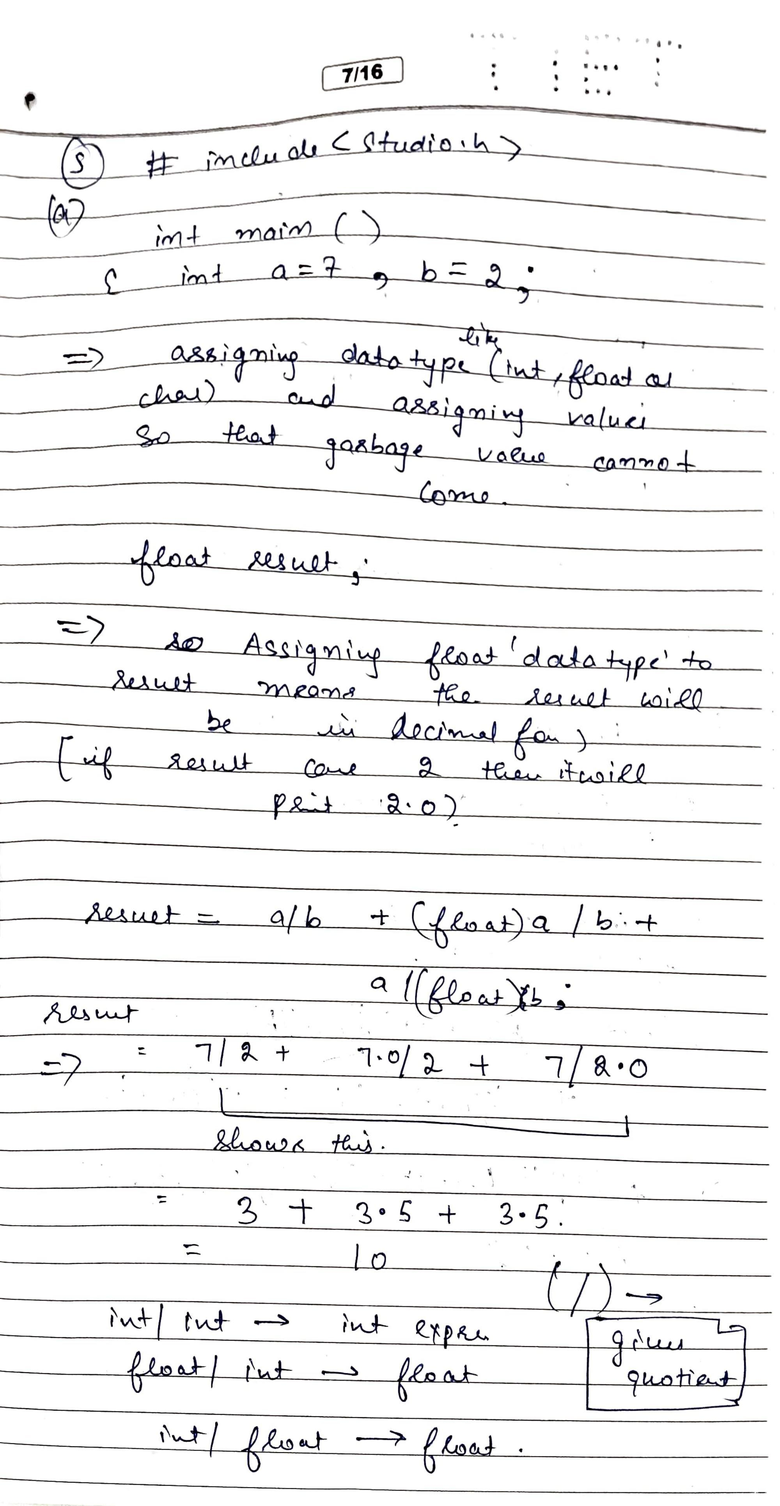cuttings: (519, 984, 530, 1012)
